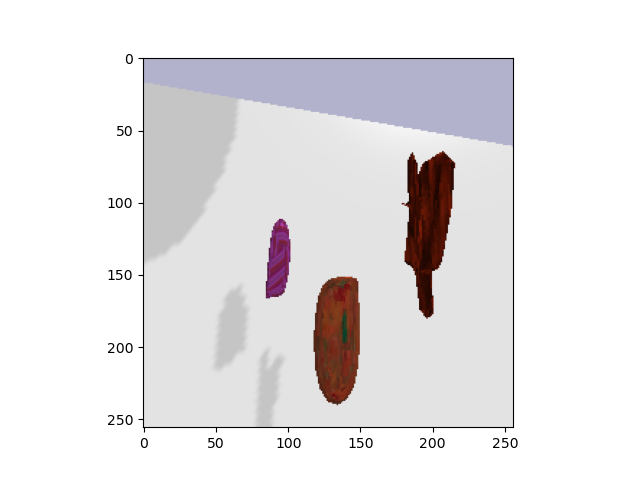v249b387_105: (258, 216, 299, 306)
v249b387_106: (309, 274, 370, 409)
v249b387_107: (399, 149, 464, 326)
